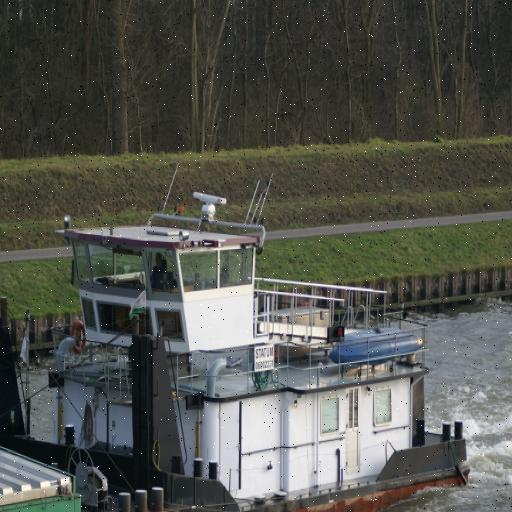tugboat: (1, 186, 474, 512)
